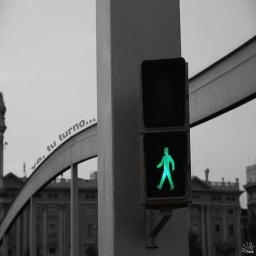traffic light: (142, 56, 192, 205)
